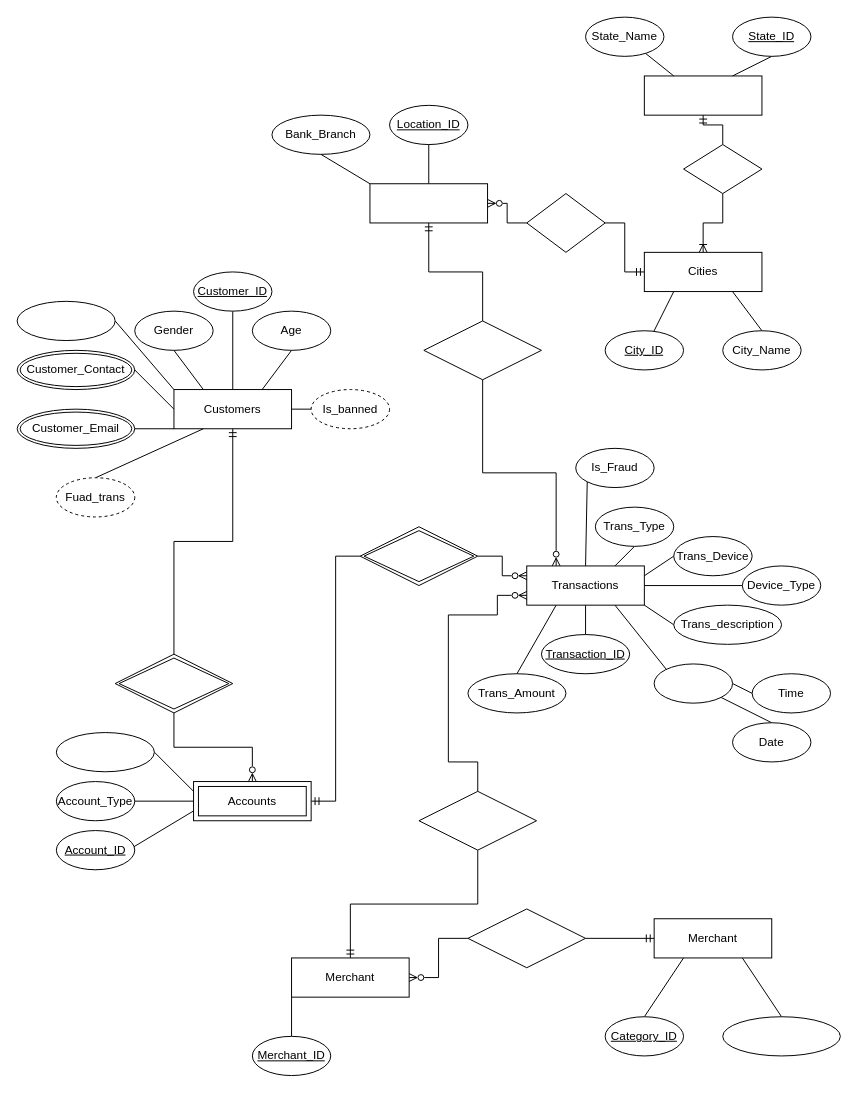
The diagram is 858 pixels wide and 1093 high, and some of its shapes have lost their labels. The shapes that lost their labels are listed below. From the top down, each one's centre as x and y in pixels, then its label:
At pixel 702 95: "States".
At pixel 722 169: "Belong to".
At pixel 428 203: "Location".
At pixel 565 222: "Record".
At pixel 65 320: "Customer_Name".
At pixel 482 350: "Located".
At pixel 418 556: "Do".
At pixel 173 683: "Has".
At pixel 693 683: "Trans_date".
At pixel 104 752: "Account_Balance".
At pixel 477 820: "By".
At pixel 526 938: "Relationship".
At pixel 781 1036: "Category_Name".
